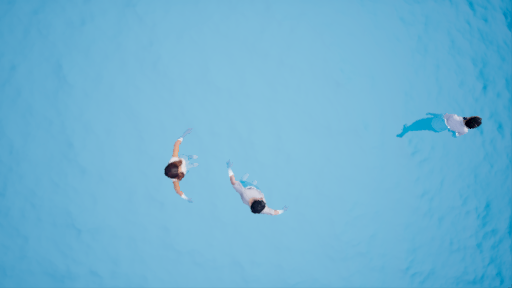person: (222, 160, 291, 221), (162, 123, 203, 201), (394, 108, 486, 142)
